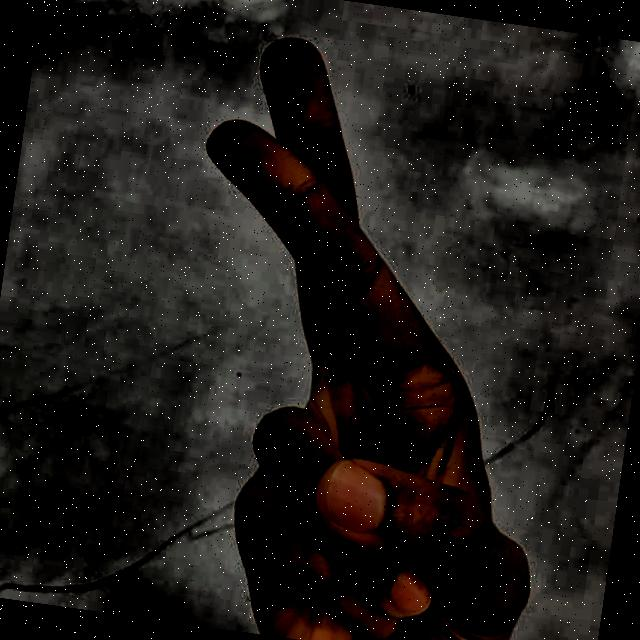Ra: (86, 2, 622, 640)
